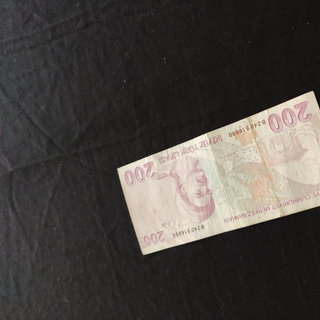200TLBack: (117, 90, 320, 254)
